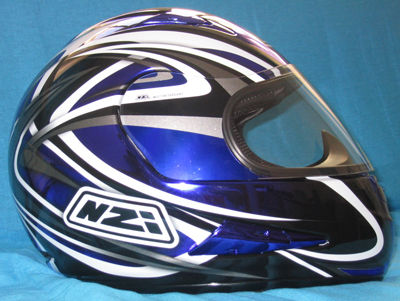helmet: (28, 16, 383, 287)
